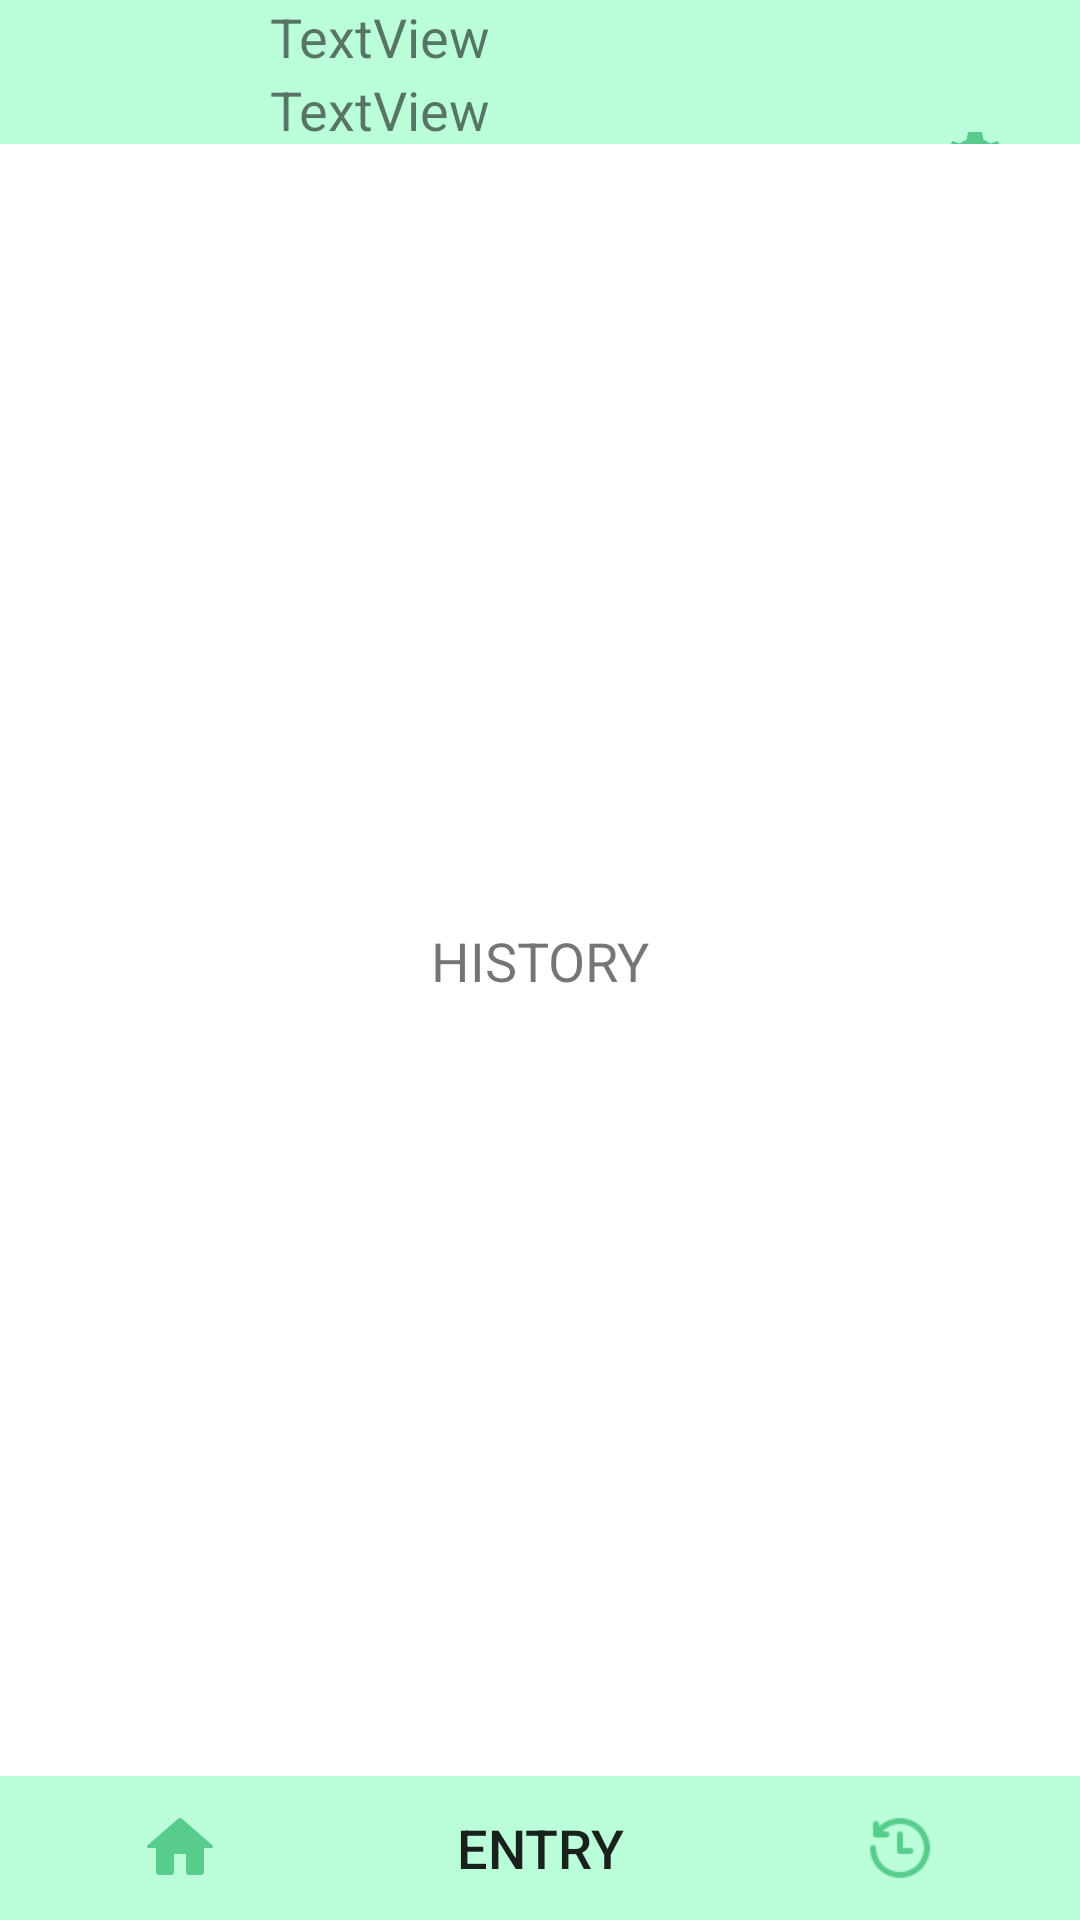

Icon bounding boxes for this 1080w x 1920h phone screenshot, format (x1, y1, x2, y2):
home: (147, 1818, 213, 1875)
